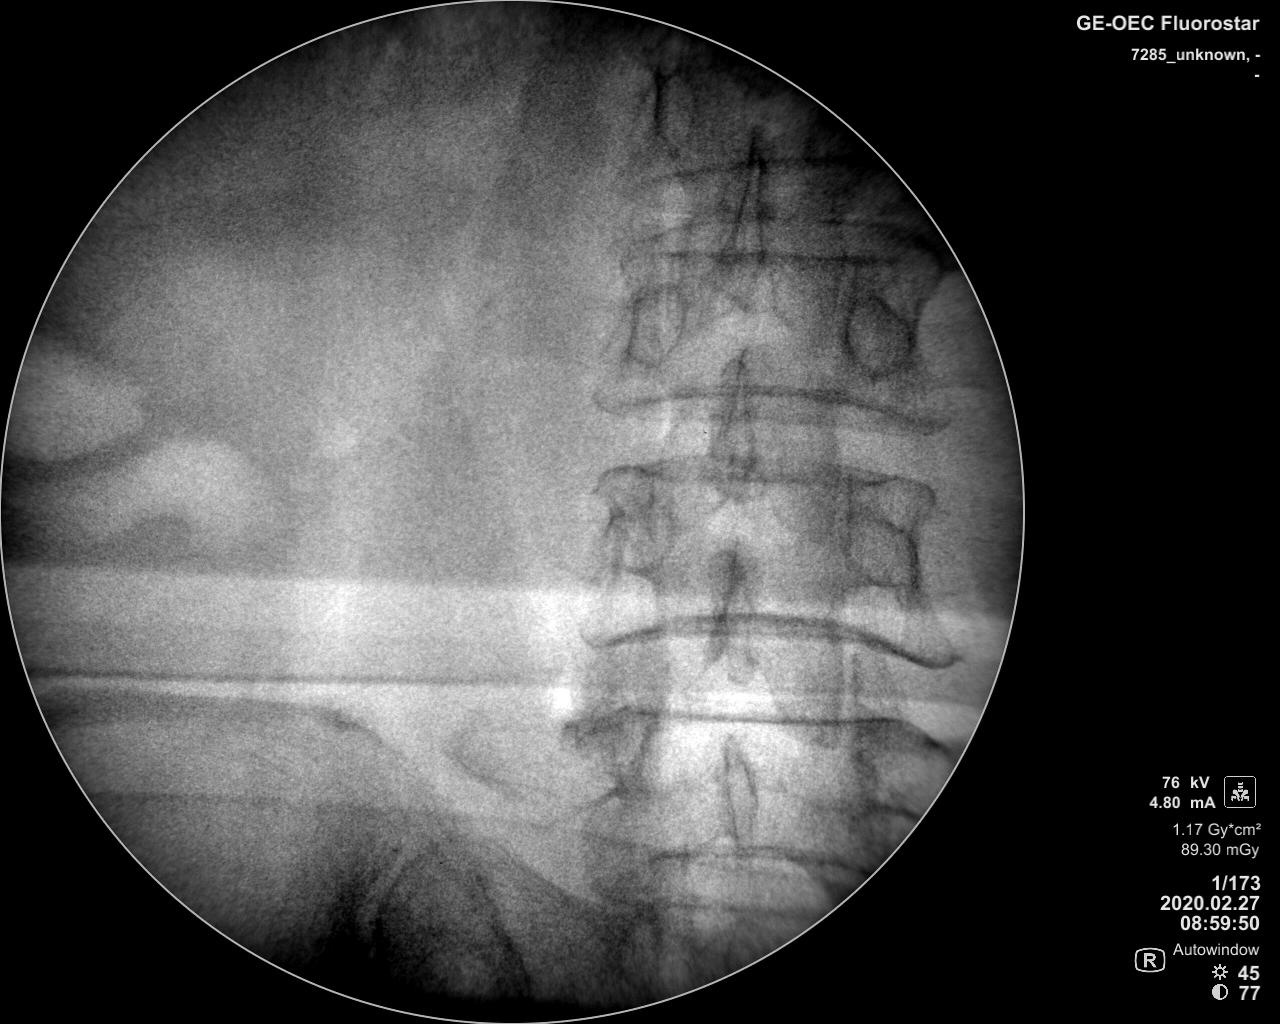eyes: (840, 290, 916, 381), (846, 501, 918, 595), (622, 272, 684, 367), (601, 491, 672, 574), (652, 63, 698, 162), (612, 906, 664, 987)
line: (607, 383, 933, 432), (600, 612, 915, 661), (624, 447, 885, 492), (621, 703, 922, 737), (648, 829, 855, 870), (657, 236, 897, 271), (669, 142, 866, 172), (659, 894, 816, 925)
nose: (717, 122, 772, 306), (711, 340, 763, 511), (716, 534, 763, 686), (713, 731, 764, 868)
